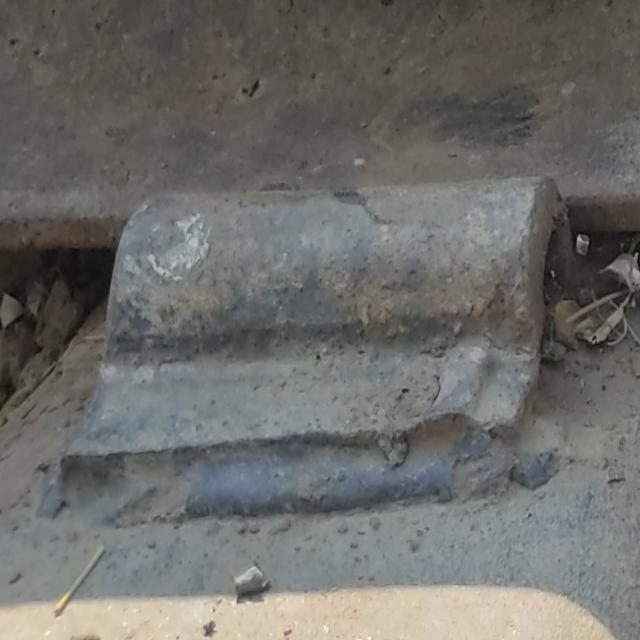track_bolt_missing: (99, 168, 568, 368)
